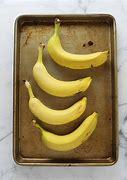banana: (47, 30, 108, 71), (27, 61, 94, 98), (32, 120, 104, 154), (23, 94, 86, 128)
